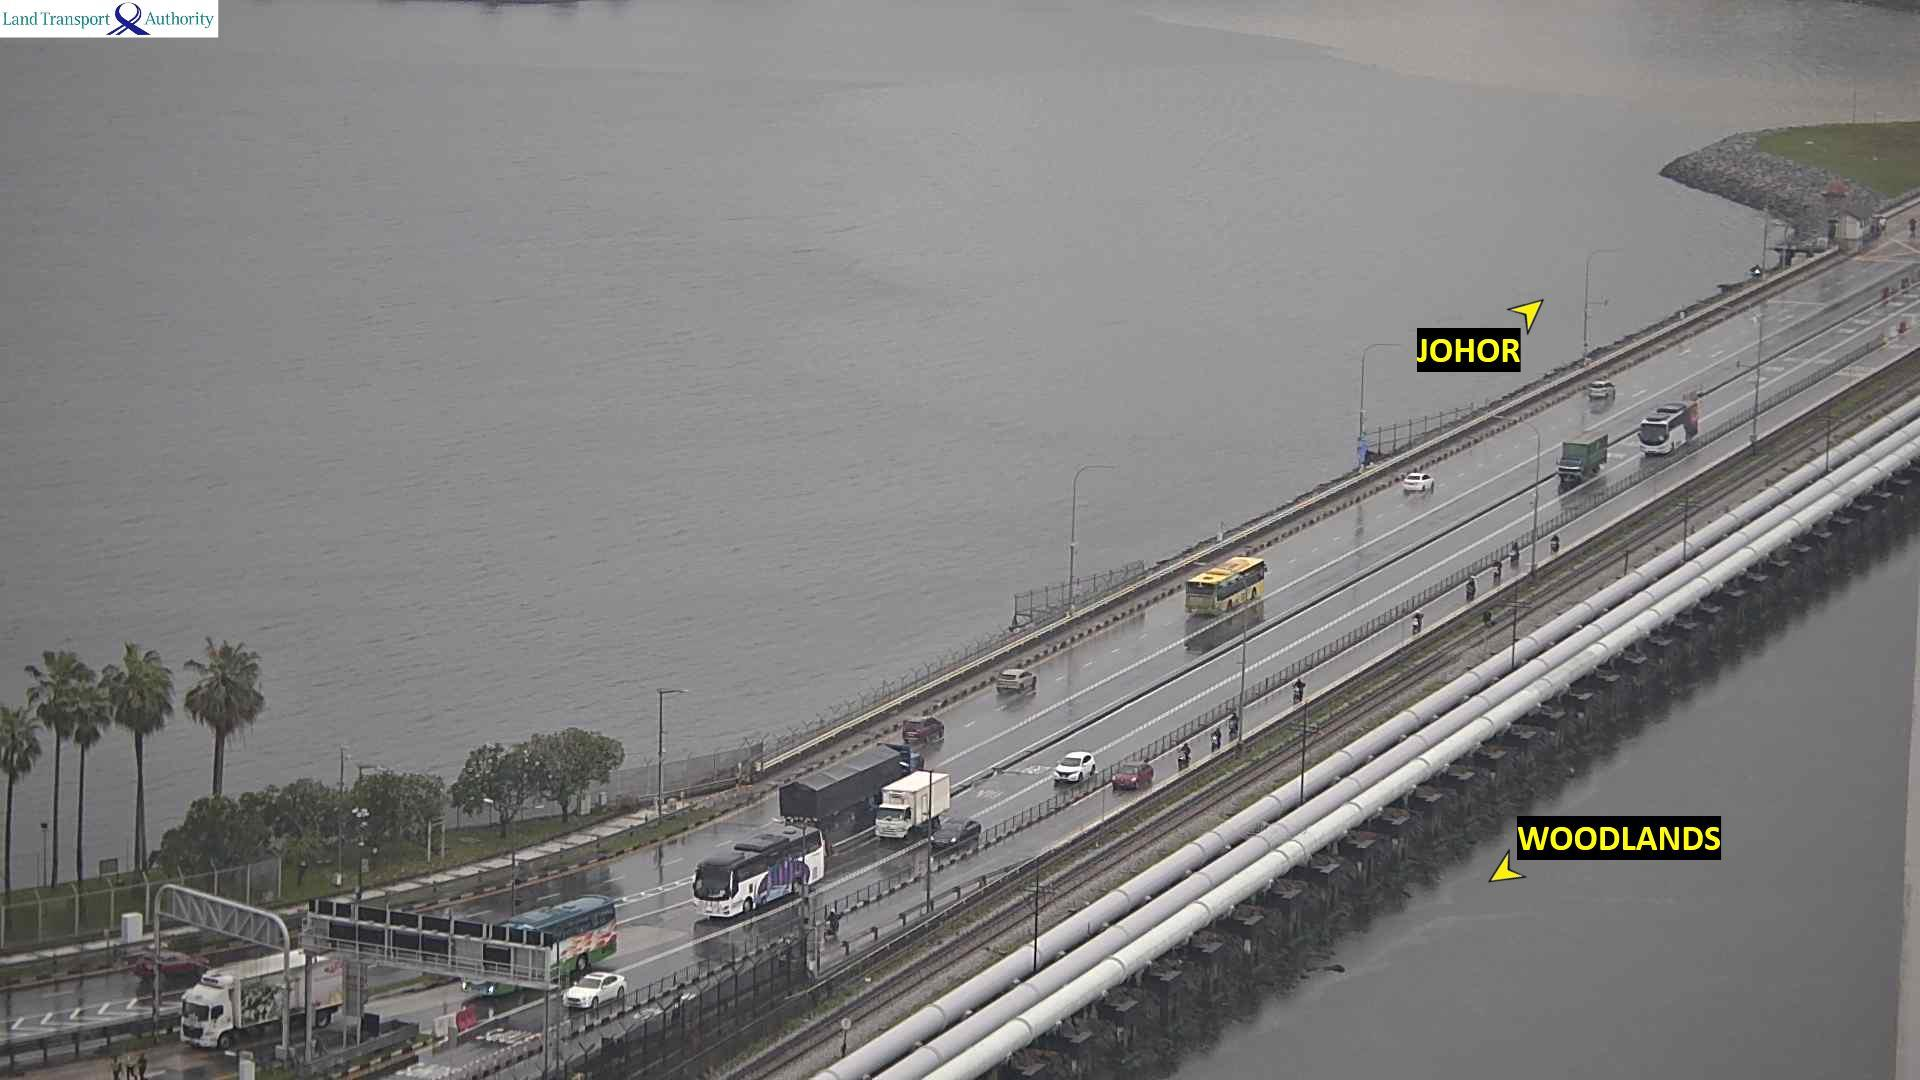vehicle-causeway-johor: (771, 749, 923, 816), (1187, 558, 1265, 615), (136, 953, 209, 976), (998, 658, 1038, 693), (908, 714, 944, 740), (1400, 469, 1432, 496), (1590, 382, 1616, 400), (1909, 219, 1917, 232)
vehicle-causeway-singapore: (700, 828, 820, 925), (501, 901, 627, 976), (878, 772, 950, 841), (1641, 402, 1695, 454), (1560, 431, 1608, 482), (565, 978, 631, 1009), (935, 817, 980, 848), (1053, 752, 1094, 783), (1111, 761, 1153, 789), (821, 907, 842, 938), (1173, 742, 1190, 767), (1208, 725, 1224, 751), (1410, 612, 1424, 636), (1291, 679, 1306, 701), (1462, 580, 1473, 604), (1507, 543, 1519, 561), (1228, 715, 1236, 735), (1491, 561, 1500, 578), (1551, 534, 1558, 555)
